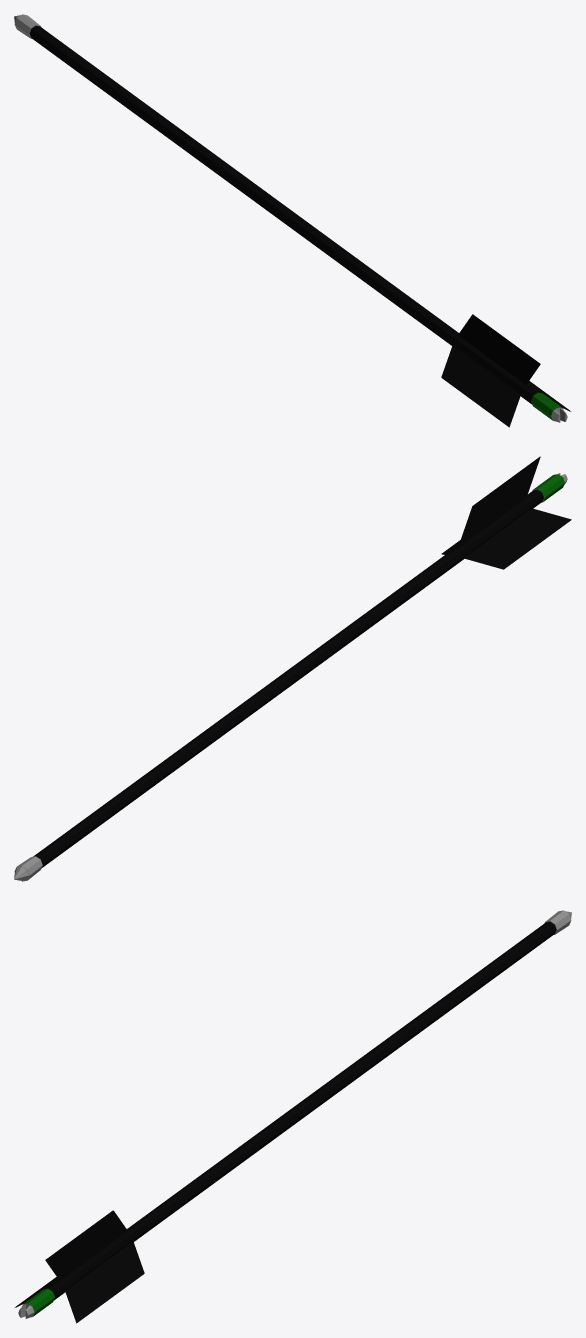
The picture shows the model from 3 angles, top to bottom: view 1: azimuth 30°, elevation 25°; view 2: azimuth 150°, elevation 25°; view 3: azimuth 330°, elevation 25°; orthographic projection.
Visible parts, largest first — view 1: 矢; view 2: 矢; view 3: 矢.
Part boxes in pixels (<box>): 矢: <box>14,14,571,427</box>; 矢: <box>14,456,571,881</box>; 矢: <box>15,910,571,1323</box>.
Bounding box in the file's own units: 44.7 × 38.09 × 677.
